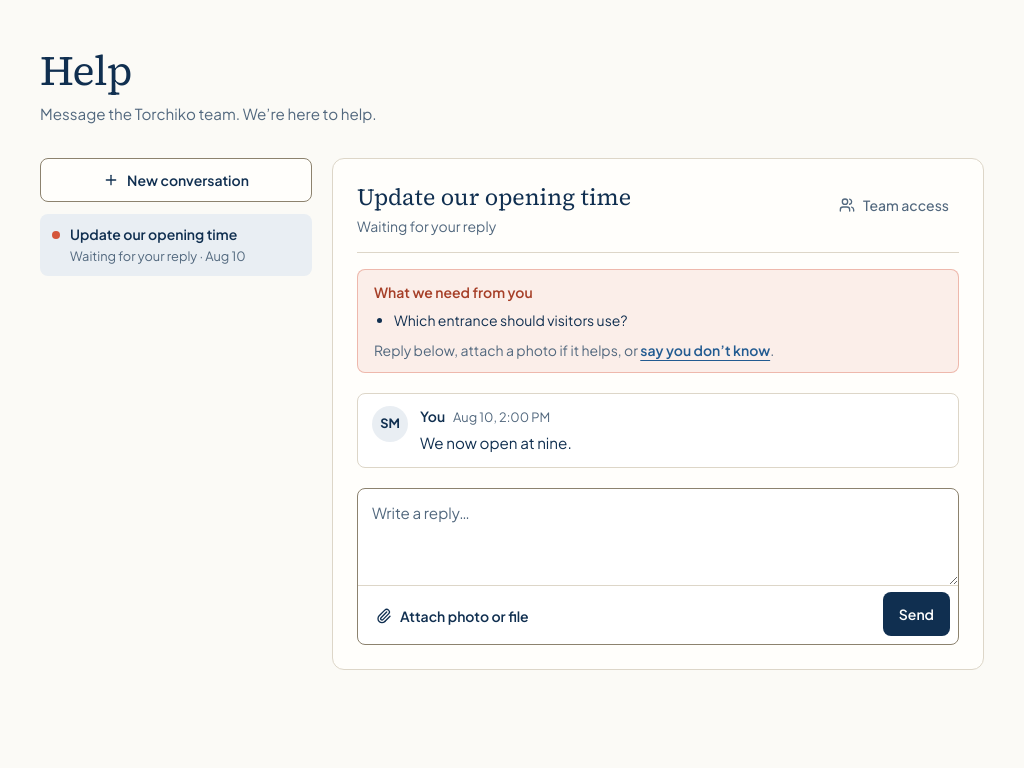
Test: SupportWorkspace › answers missing information in the same thread and shows the reopened review state
Type "Use the east entrance." into the text box labelled "reply". click: (658, 537)
box: [358, 489, 958, 585]
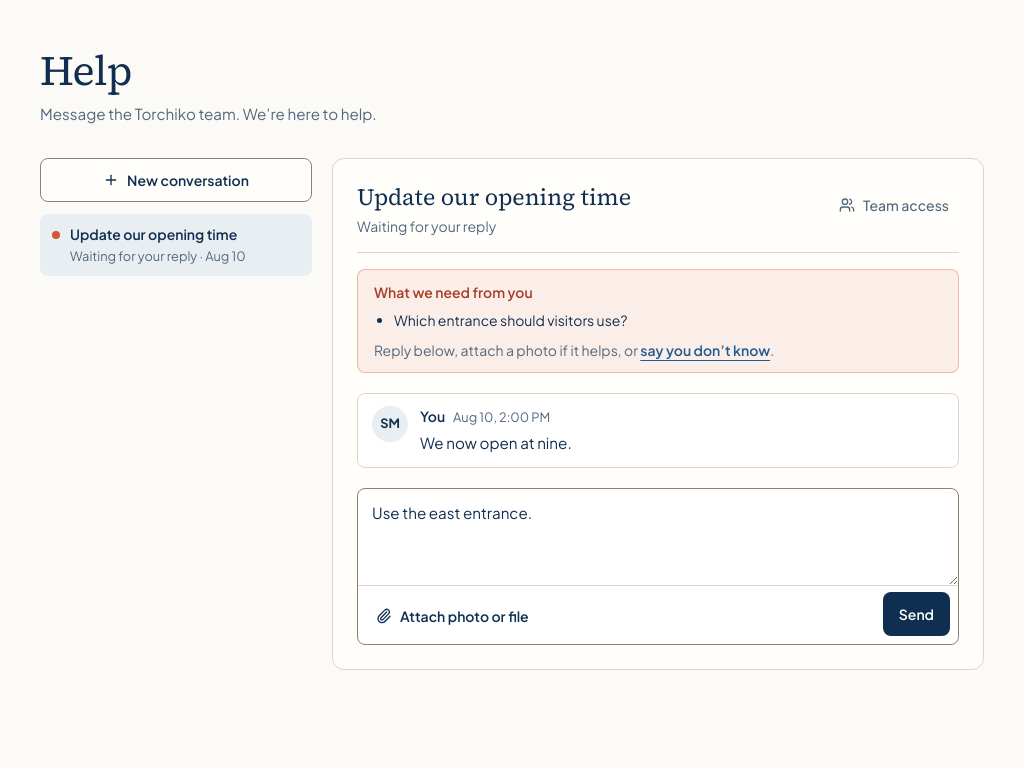
Click the button "Send". click: click(916, 614)
box: [883, 592, 950, 636]
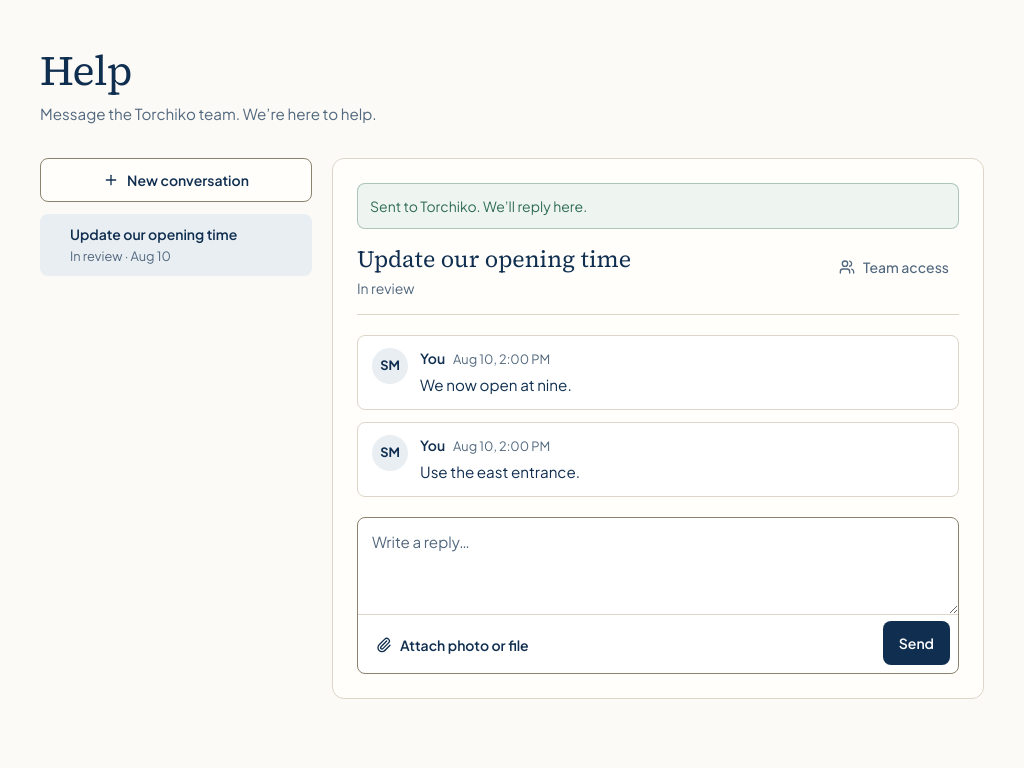
Expected: the text "In review" is shown, [357, 279, 414, 297]
Expected: the list item "Which entrance should visitors use?" is gone
